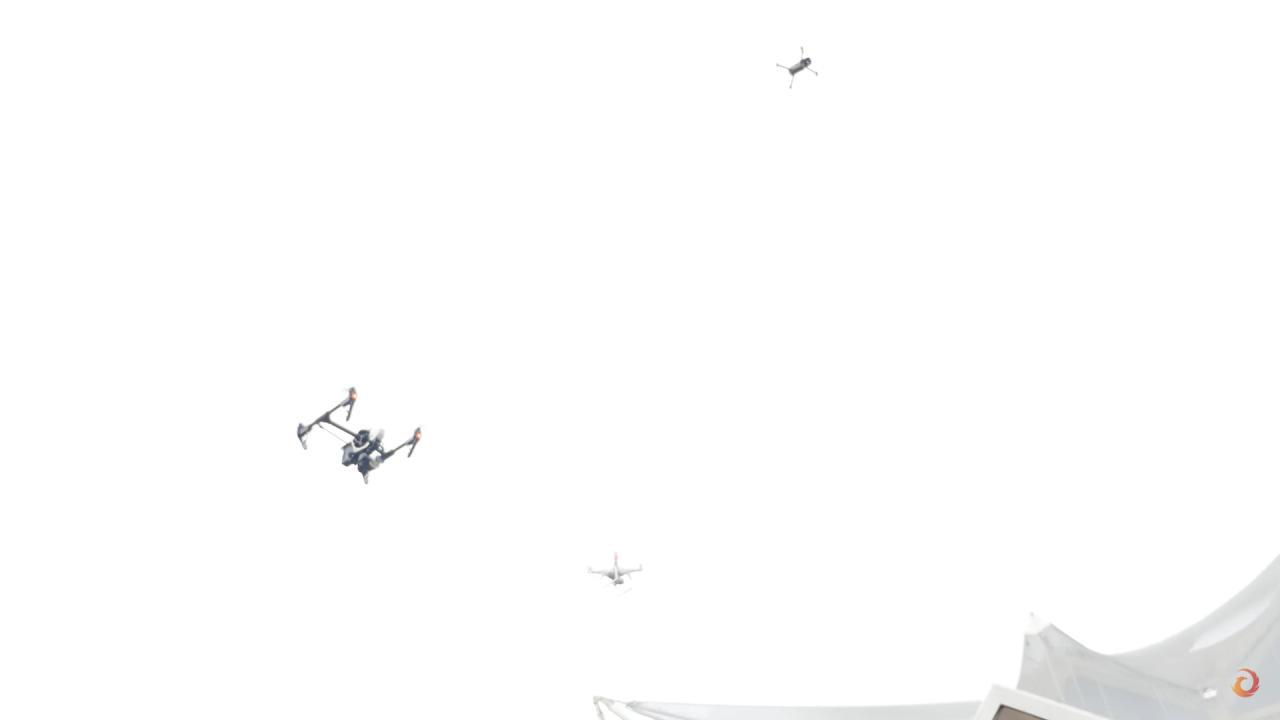Drone: (287, 378, 433, 492), (766, 37, 829, 99), (582, 544, 650, 599)
